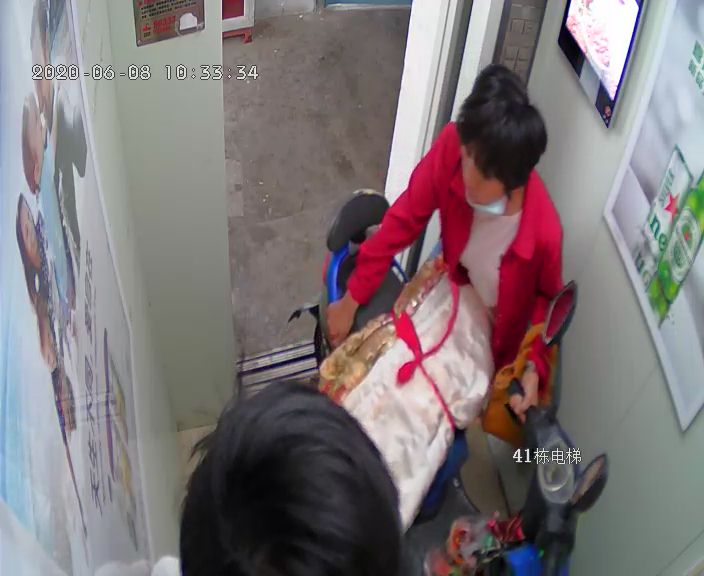Electric-bicycle: (331, 191, 578, 575)
